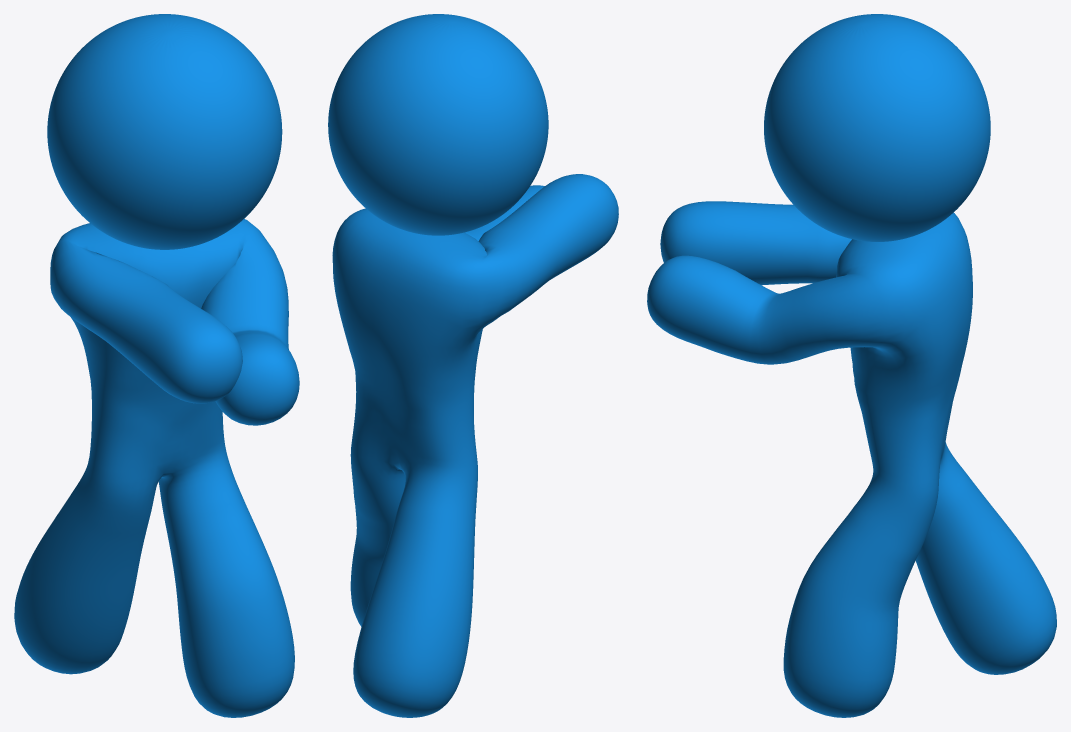
The model's file is StickGunPose2.fbx.
3 views of the same model, side by side, from view 1: azimuth 30°, elevation 25°; view 2: azimuth 150°, elevation 25°; view 3: azimuth 270°, elevation 25° (orthographic). The views are drawn at different scales.
Visible parts, largest first — view 1: Cube.001; view 2: Cube.001; view 3: Cube.001.
Boxes of the visible parts, x1=… form: Cube.001: x1=14, y1=14, x2=299, y2=717; Cube.001: x1=328, y1=14, x2=618, y2=717; Cube.001: x1=647, y1=14, x2=1056, y2=717.
Size of the model in its own units: 170 by 542 by 304.
